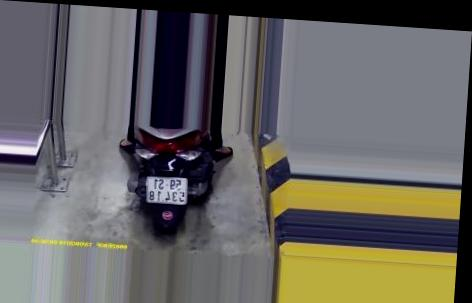License_Plate: (143, 173, 189, 207)
